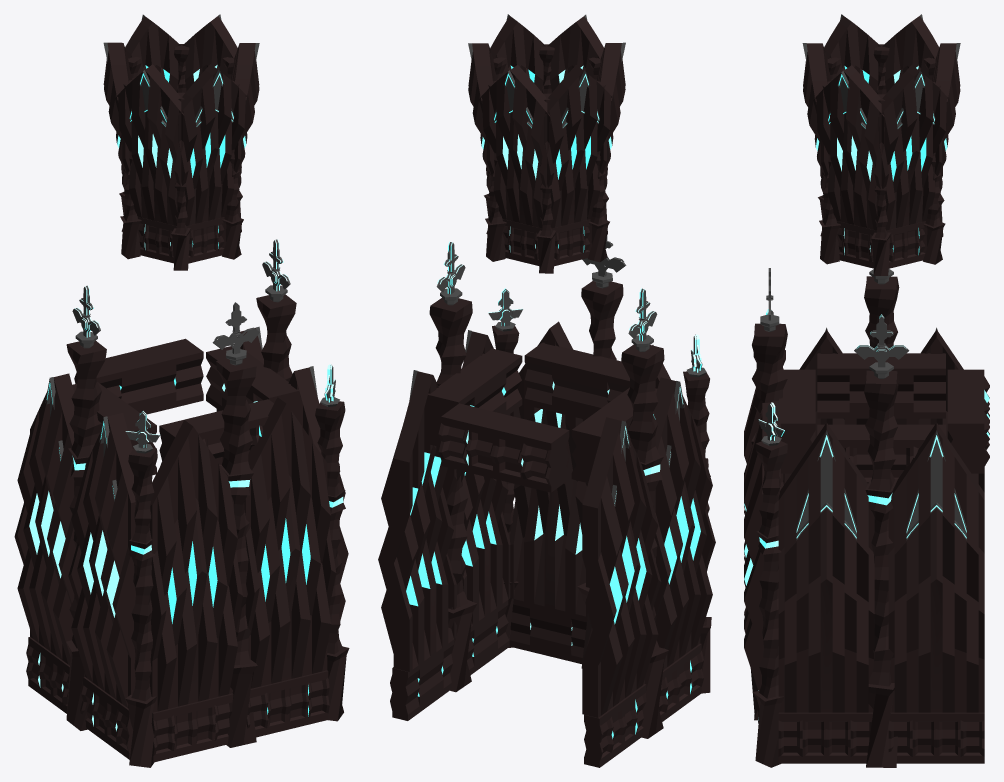
The model's file is Goth_7.glb.
The picture shows the model from 3 angles, left to right: view 1: azimuth 30°, elevation 25°; view 2: azimuth 150°, elevation 25°; view 3: azimuth 270°, elevation 25°; orthographic projection. The views are drawn at different scales.
Parts seen in each view (by area): view 1: WallWithWindow.026, WallWithWindow.027, WallWithWindow.033, WallWithWindow.032, WallWithWindow.052, WallWithWindow.057, Pillar.033_Metal_0, Pillar.034_Metal_0, Barrier.027, Pillar.039, Pillar.036_Metal_0, Barrier.030 (+21 smaller); view 2: WallWithWindow.032, WallWithWindow.029, WallWithWindow.033, WallWithWindow.027, Barrier.027, WallWithWindow.055, WallWithWindow.056, WallWithWindow.028, Barrier.025, Pillar.035, Pillar.039, Barrier.026 (+22 smaller); view 3: WallWithWindow.029, WallWithWindow.028, Pillar.035, WallWithWindow.054, WallWithWindow.053, Barrier.028, Pillar.036_Metal_0, Barrier.032, Barrier.031, WallWithWindow.027, Barrier.027, Barrier.025 (+21 smaller).
Part boxes in pixels (bbox=[...]): WallWithWindow.026: bbox=[149, 420, 242, 712]; WallWithWindow.027: bbox=[244, 397, 336, 688]; WallWithWindow.033: bbox=[68, 413, 135, 708]; WallWithWindow.032: bbox=[14, 373, 75, 665]; WallWithWindow.052: bbox=[178, 64, 248, 225]; WallWithWindow.057: bbox=[115, 64, 183, 225]; Pillar.033_Metal_0: bbox=[216, 358, 257, 747]; Pillar.034_Metal_0: bbox=[125, 448, 157, 767]; Barrier.027: bbox=[74, 338, 203, 414]; Pillar.039: bbox=[66, 341, 106, 730]; Pillar.036_Metal_0: bbox=[315, 401, 349, 721]; Barrier.030: bbox=[246, 670, 329, 737]; WallWithWindow.032: bbox=[582, 417, 661, 717]; WallWithWindow.029: bbox=[378, 371, 456, 671]; WallWithWindow.033: bbox=[653, 377, 715, 669]; WallWithWindow.027: bbox=[509, 321, 590, 616]; Barrier.027: bbox=[438, 403, 569, 492]; WallWithWindow.055: bbox=[479, 64, 550, 228]; WallWithWindow.056: bbox=[544, 65, 614, 228]; WallWithWindow.028: bbox=[461, 331, 510, 626]; Barrier.025: bbox=[524, 342, 630, 419]; Pillar.035: bbox=[429, 297, 476, 692]; Pillar.039: bbox=[621, 344, 668, 738]; Barrier.026: bbox=[424, 348, 522, 446]; WallWithWindow.029: bbox=[888, 422, 984, 712]; WallWithWindow.028: bbox=[778, 422, 874, 712]; Pillar.035: bbox=[864, 370, 899, 767]; WallWithWindow.054: bbox=[878, 65, 949, 230]; WallWithWindow.053: bbox=[813, 65, 884, 230]; Barrier.028: bbox=[817, 353, 945, 418]; Pillar.036_Metal_0: bbox=[753, 441, 787, 767]; Barrier.032: bbox=[888, 712, 984, 763]; Barrier.031: bbox=[778, 712, 872, 763]; WallWithWindow.027: bbox=[744, 403, 780, 690]; Barrier.027: bbox=[947, 369, 989, 473]; Barrier.025: bbox=[779, 369, 815, 473].
Bounding box in the file's own units: 1500 × 4037 × 1340.
